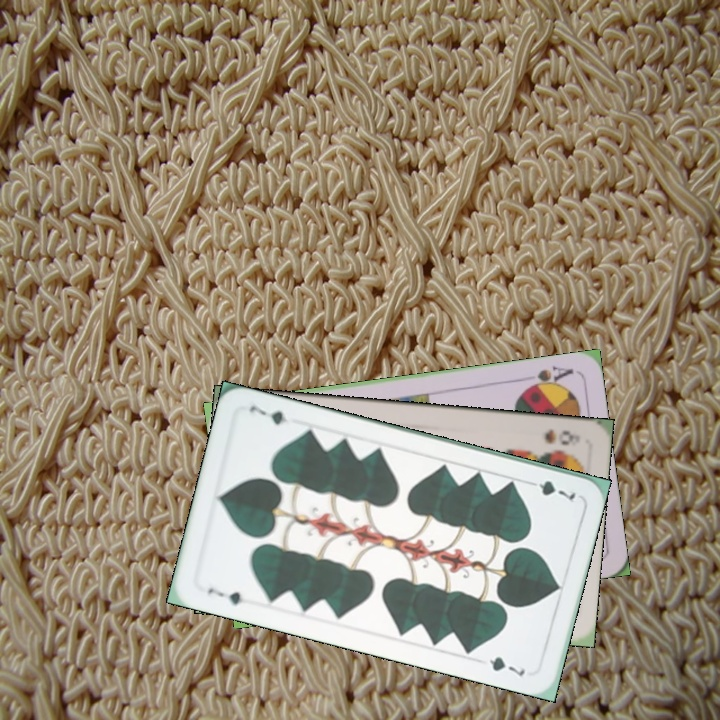G7: (522, 476, 579, 503), (203, 583, 246, 608)
S8: (540, 425, 577, 448)
SA: (519, 362, 576, 393)
